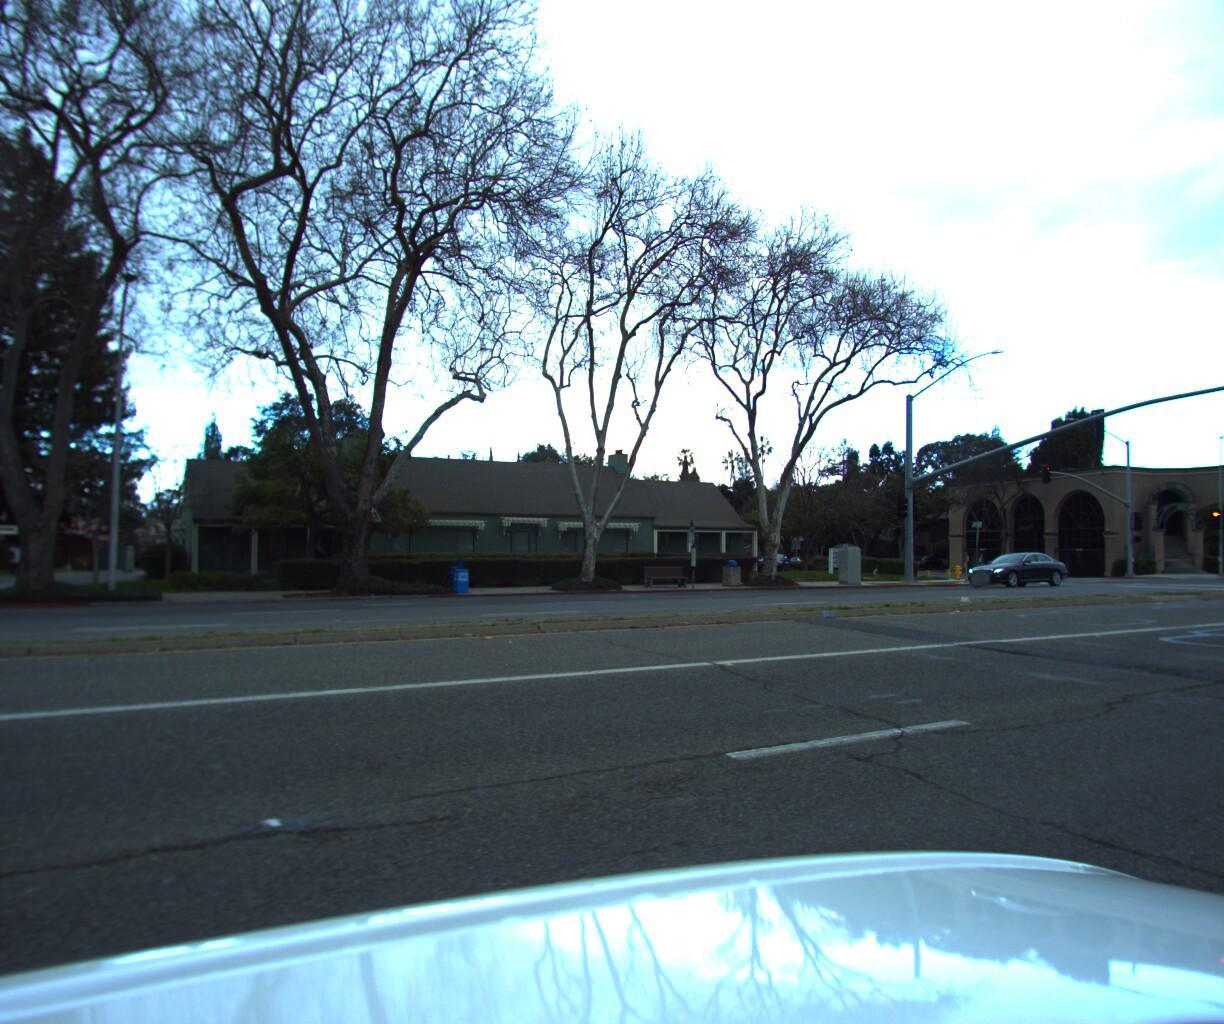car: (955, 542, 1068, 583)
